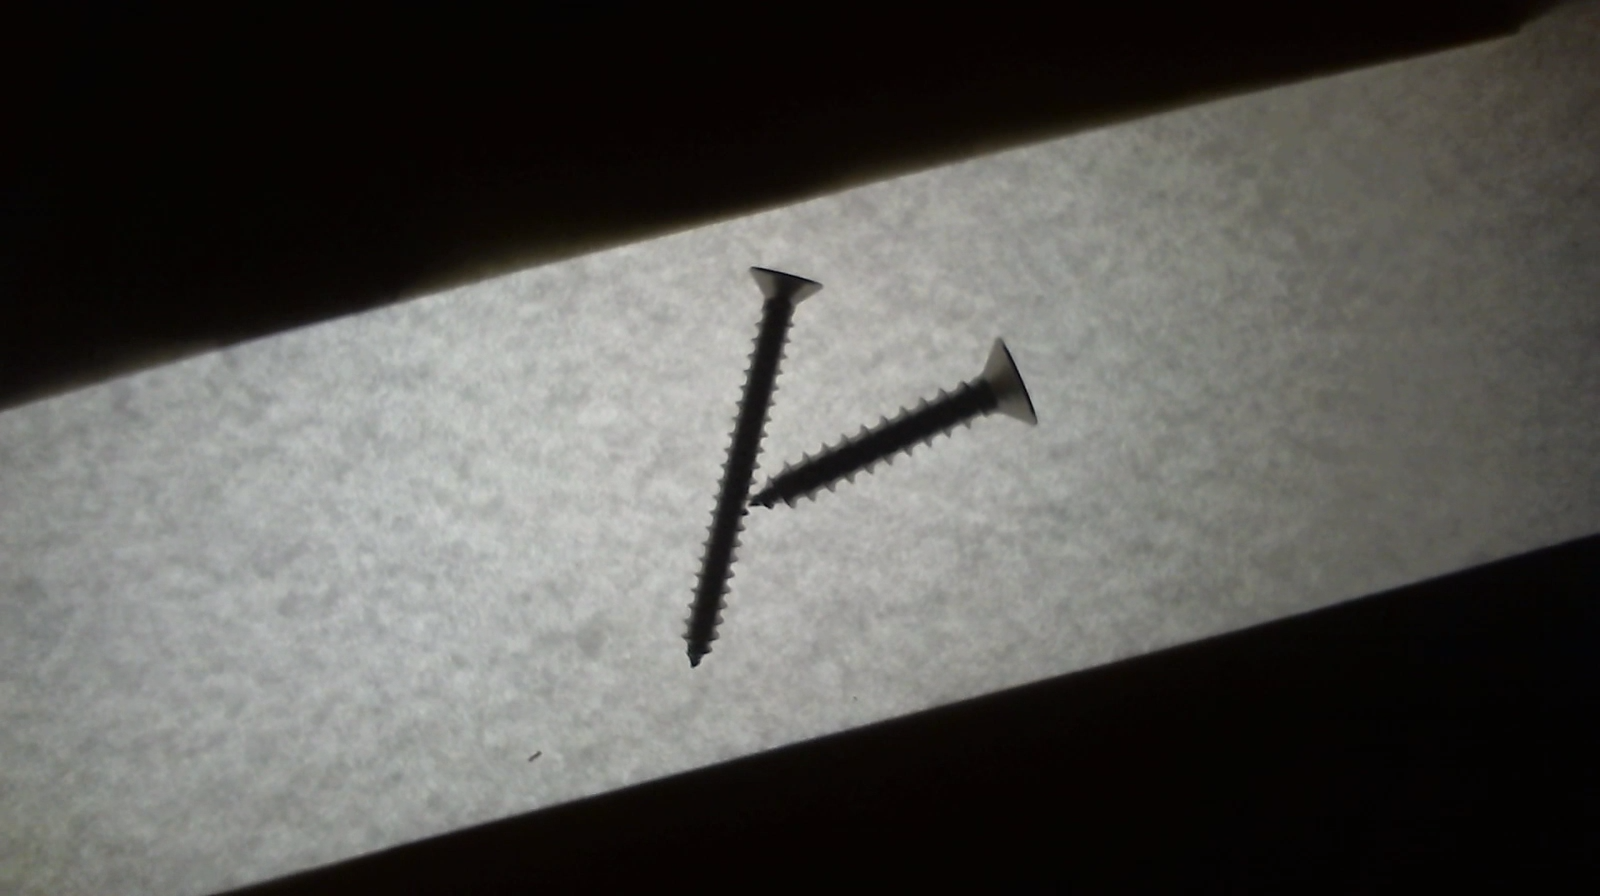S001: (738, 327, 1044, 515)
S002: (677, 258, 826, 661)
